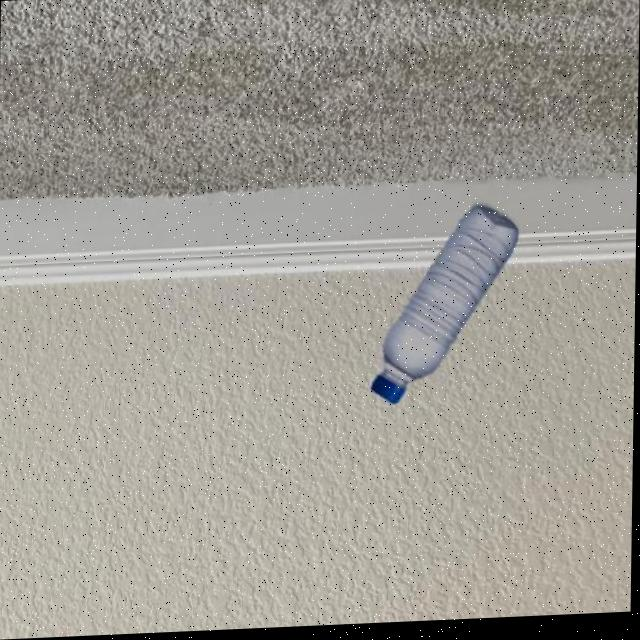bottle: (370, 208, 521, 411)
